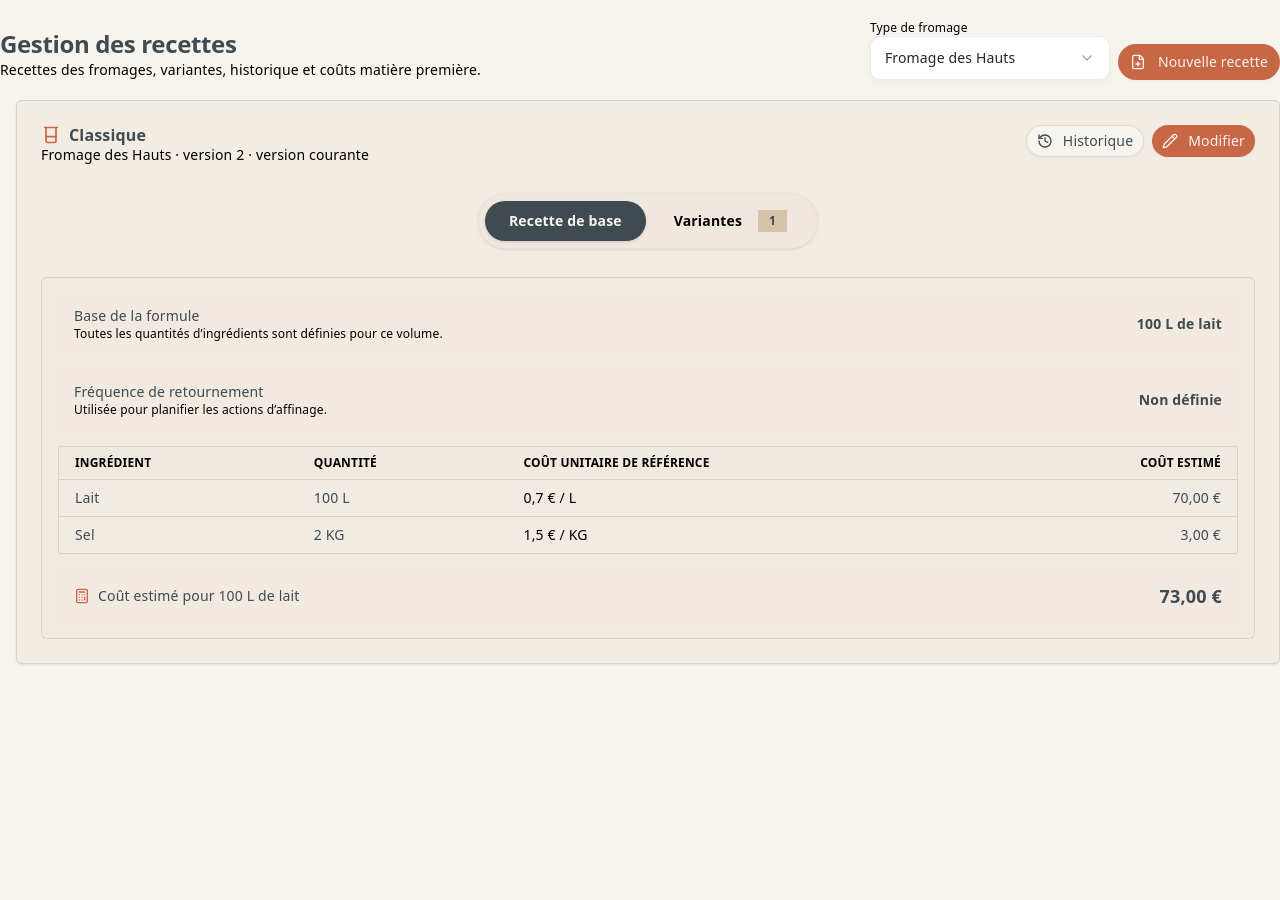
gestion des recettes › ouvre le détail d’une variante en modale sans remplacer la recette de base
The width and height of the screenshot is (1280, 900).
Click the tab "Variantes 1".
click(730, 221)  # box [650,200,811,242]
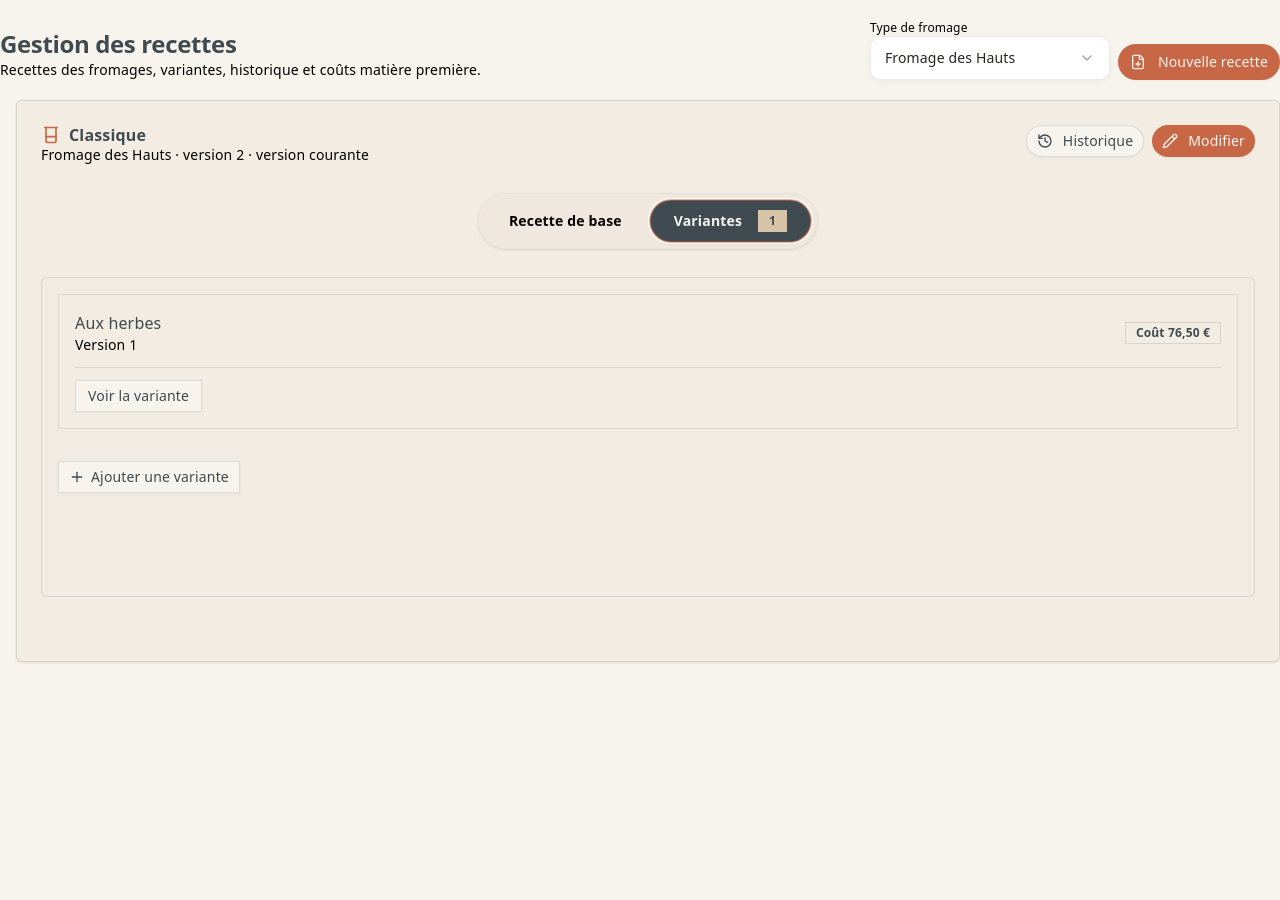
Expected: the heading "Aux herbes" is shown, [75,311,161,335]
Click the button "Voir la variante".
click(139, 396)  # box [75,380,202,412]
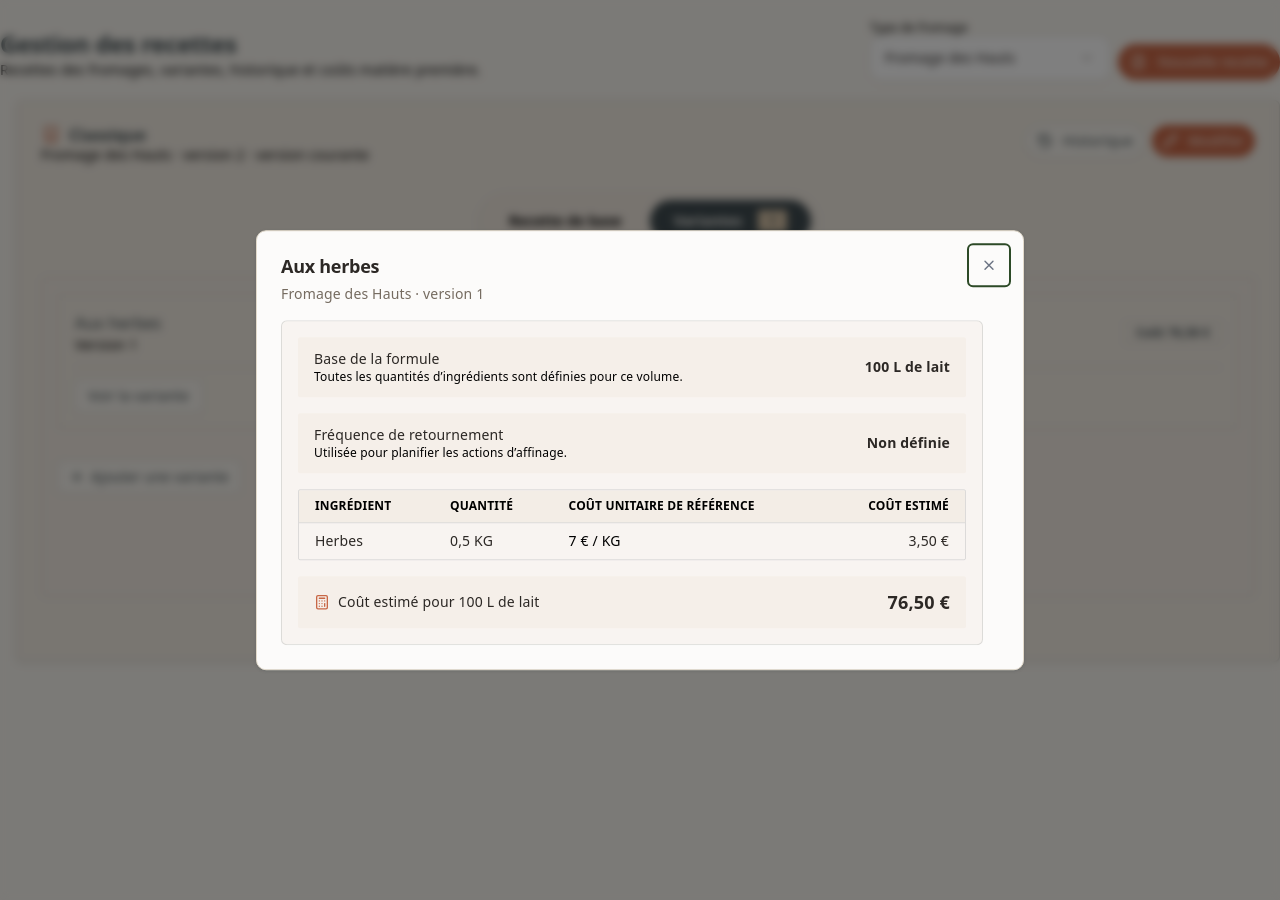
Expected: the text "Classique" is shown, [41,124,146,146]
Expected: the heading "Aux herbes" is shown, [281,254,379,278]
Expected: the text "Herbes" is shown, [299,522,434,559]
